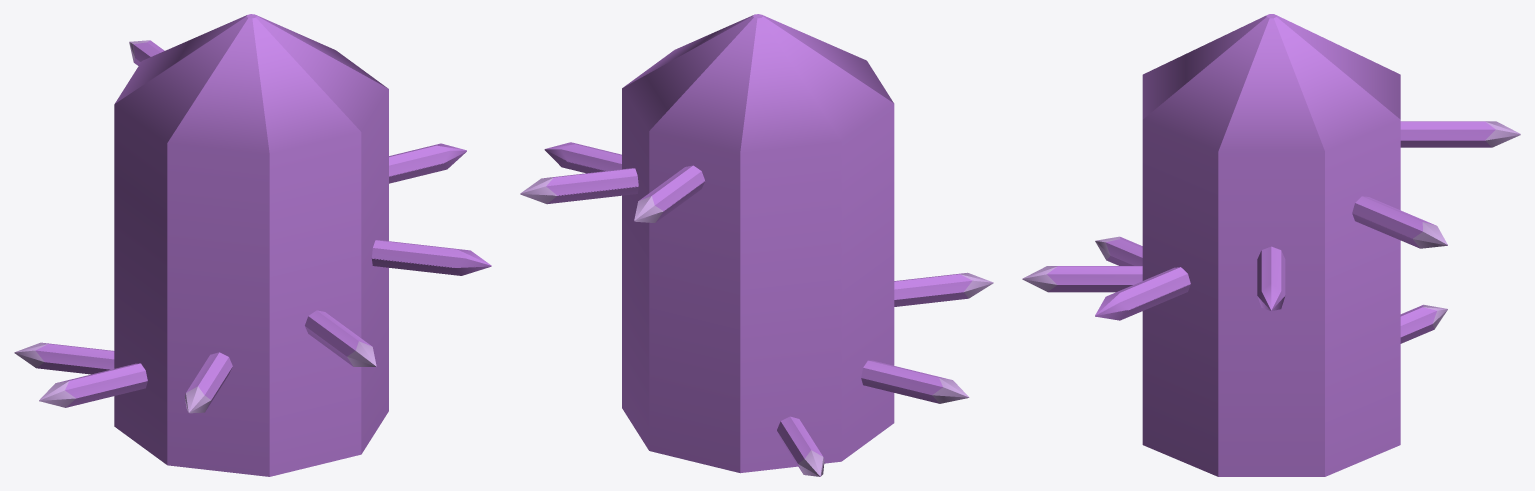
Rendered from round_3.fbx.
3 renders of one model, left to right at view 1: azimuth 30°, elevation 25°; view 2: azimuth 150°, elevation 25°; view 3: azimuth 270°, elevation 25°, orthographic.
Visible parts, largest first — view 1: polySurface165; view 2: polySurface165; view 3: polySurface165.
Boxes of the visible parts, box(x1,y1,x2,y2) form: polySurface165: box(14, 14, 491, 476); polySurface165: box(520, 14, 993, 476); polySurface165: box(1022, 14, 1520, 476).
Bounding box in the file's own units: 35.78 × 32.2 × 35.78.
